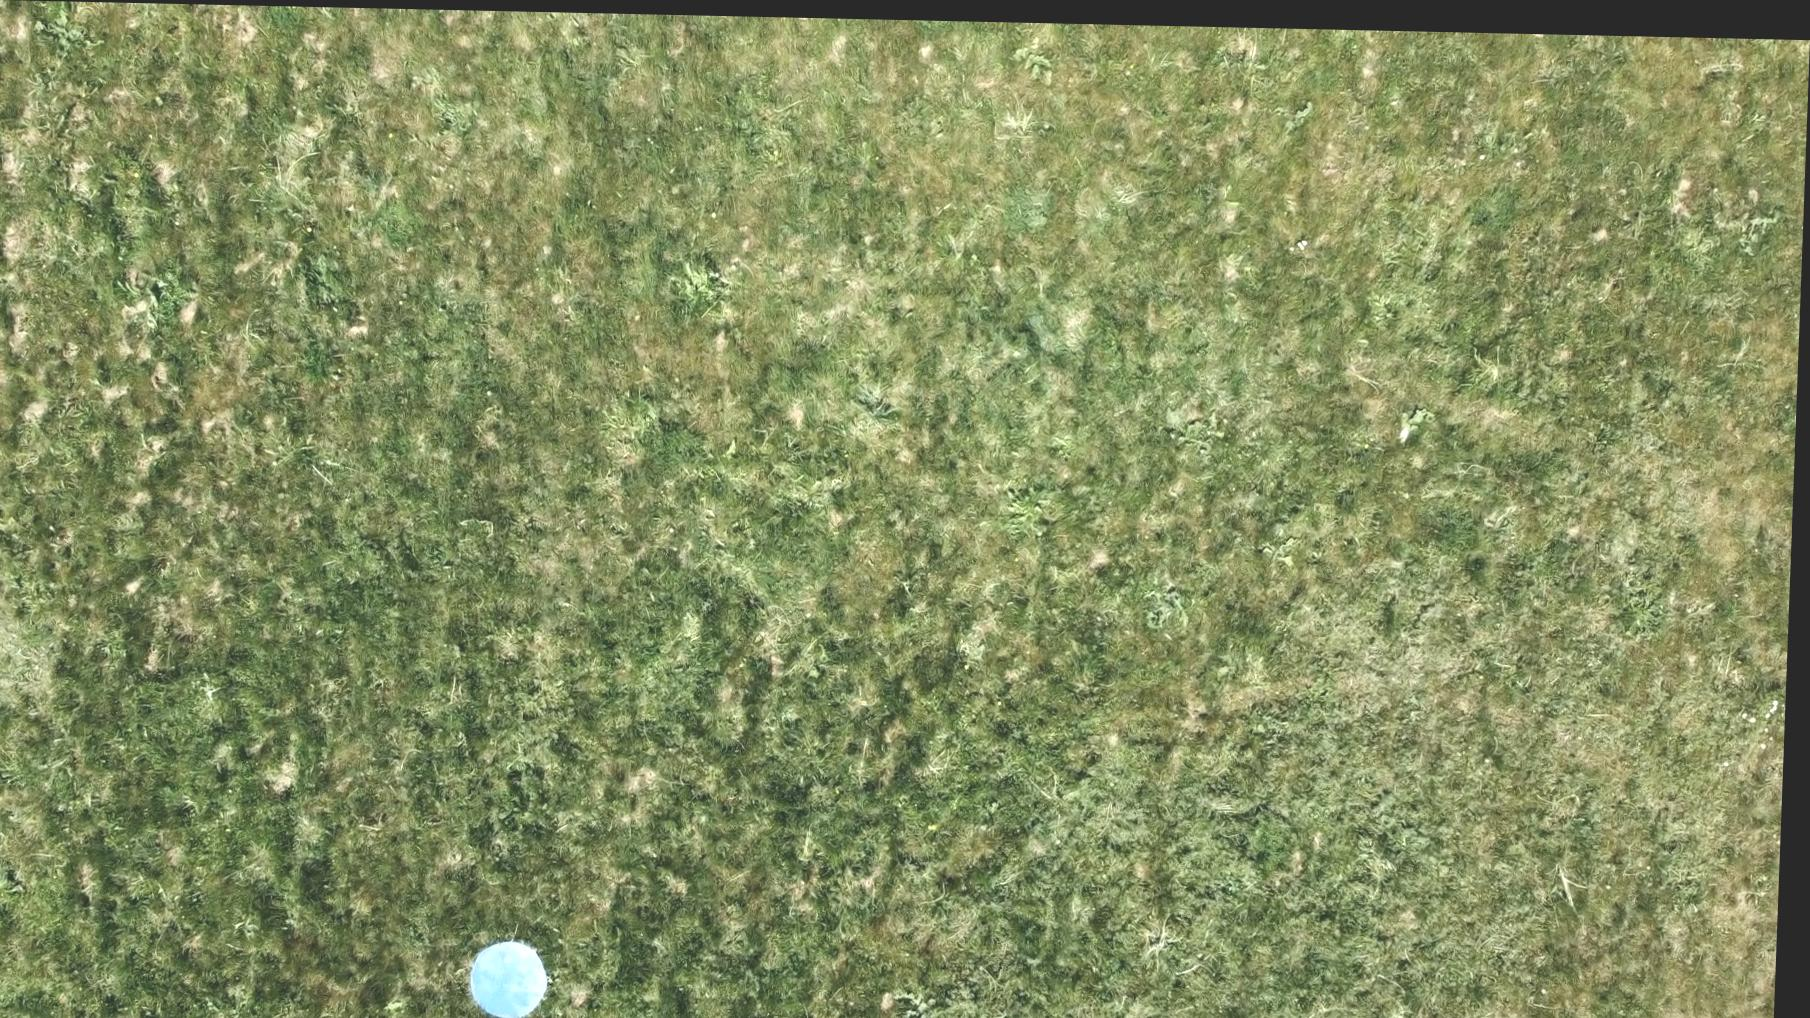Blue: (470, 931, 562, 1018)
